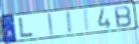4: (98, 7, 112, 30)
B: (113, 5, 133, 29)
I: (64, 10, 73, 35), (47, 12, 54, 36), (84, 9, 90, 32)
L: (18, 17, 35, 39)
